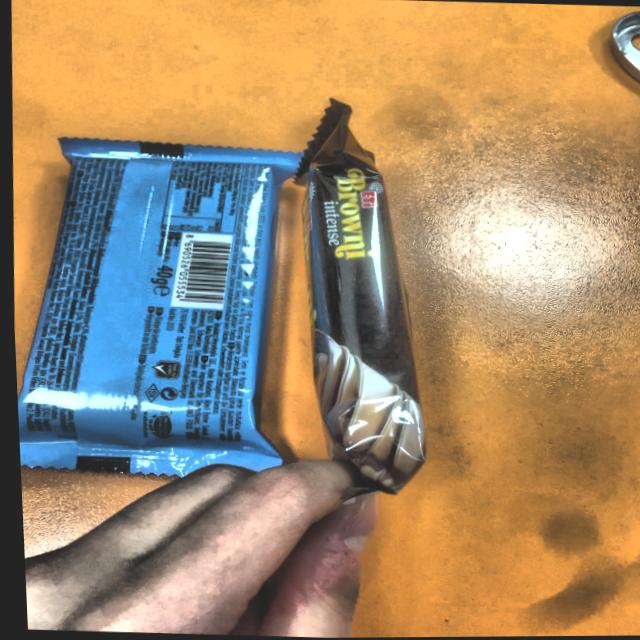Plastic: (13, 139, 299, 468), (286, 93, 442, 490)
